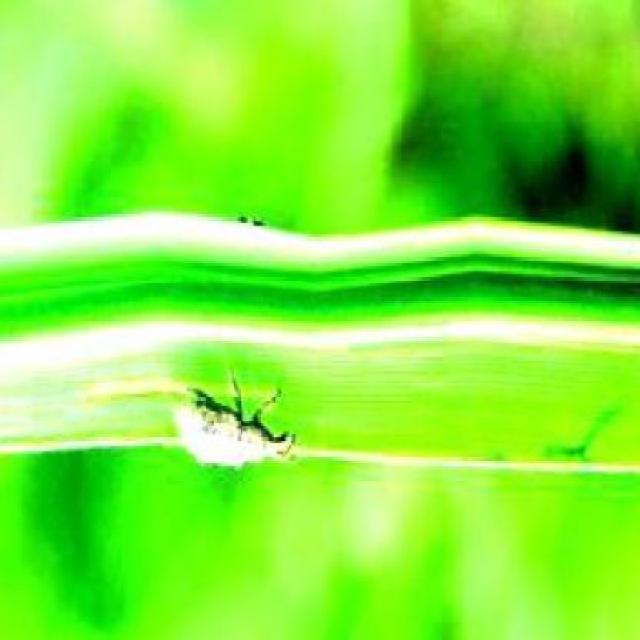rice-bug: (171, 373, 294, 473)
